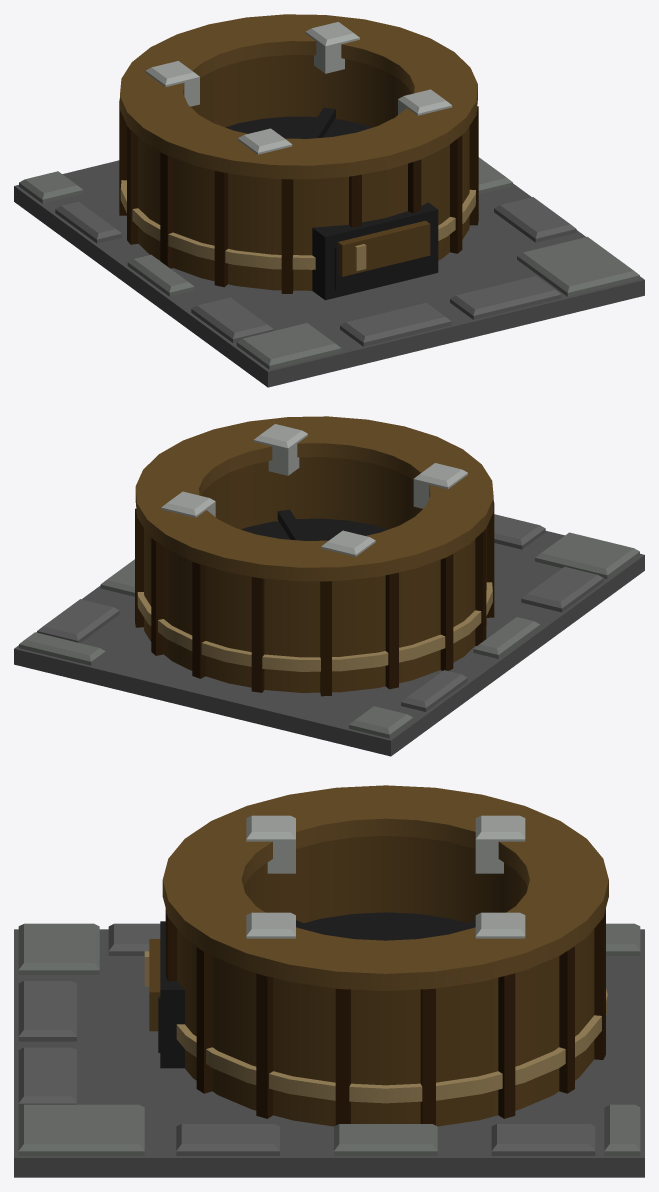
File: newshd-169-f6.glb
3 views of the same model, one above another, from view 1: azimuth 30°, elevation 25°; view 2: azimuth 150°, elevation 25°; view 3: azimuth 270°, elevation 25° (orthographic). The views are drawn at different scales.
Parts seen in each view (by area): view 1: newshd-169-f6, newshd-169-f6-door-201, newshd-169-f6-door-203; view 2: newshd-169-f6; view 3: newshd-169-f6, newshd-169-f6-door-201.
Part boxes in pixels (x1,y1,x2,y2): newshd-169-f6: (14,14,644,387); newshd-169-f6-door-201: (337,220,430,276); newshd-169-f6-door-203: (338,224,430,258); newshd-169-f6: (14,416,644,756); newshd-169-f6: (14,785,644,1177); newshd-169-f6-door-201: (144,939,160,1031).
Bounding box in the file's own units: 2 × 0.76 × 2.33.
